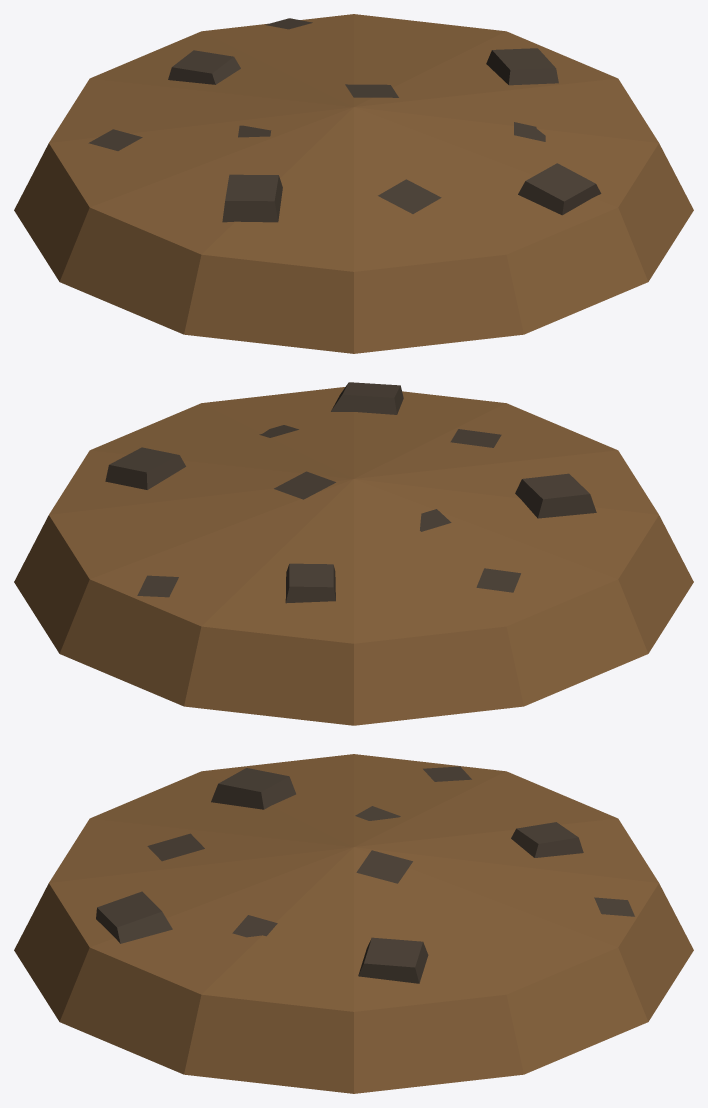
Rendered from cookie.fbx.
3 renders of one model, top to bottom at view 1: azimuth 30°, elevation 25°; view 2: azimuth 150°, elevation 25°; view 3: azimuth 270°, elevation 25°, orthographic.
Parts seen in each view (by area): view 1: cookie; view 2: cookie; view 3: cookie.
Boxes of the visible parts, left/top/right/bottom form: cookie: left=14, top=14, right=693, bottom=353; cookie: left=14, top=382, right=693, bottom=725; cookie: left=14, top=754, right=693, bottom=1093.
Size of the model in its own units: 7.86 by 1.33 by 7.86.
